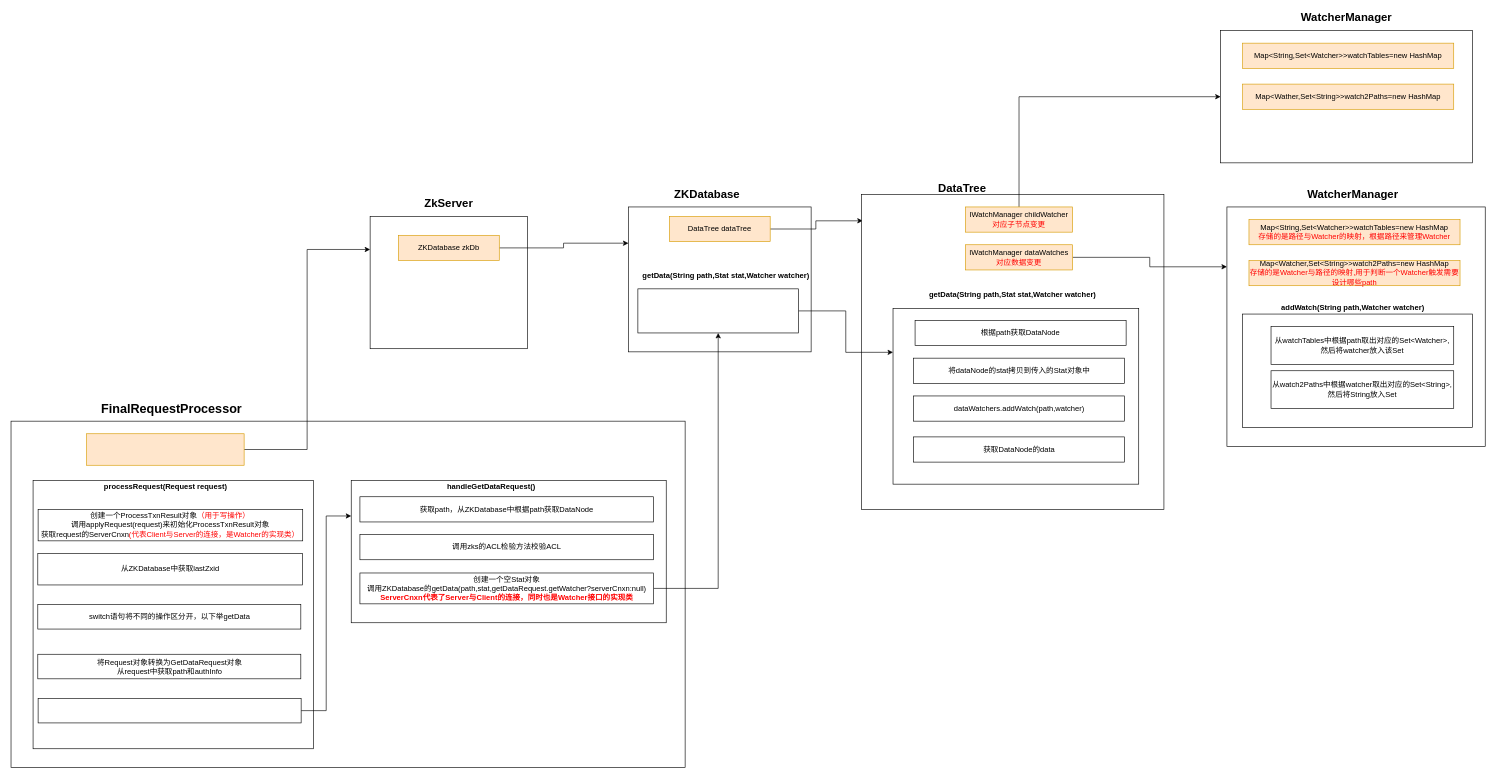
Image size: 1496x779. Some labels were removed from this diagram. The box of each missing label's shape, as (x1, y1, x2, y2) in pixels:
dataTree.getData(path,stat,watcher): (637, 288, 799, 333)
ZookeeperServer zks: (86, 433, 244, 465)
执行handleGetDataRequest(getDataRequest,serverCnxn,authInfo): (37, 698, 301, 723)
